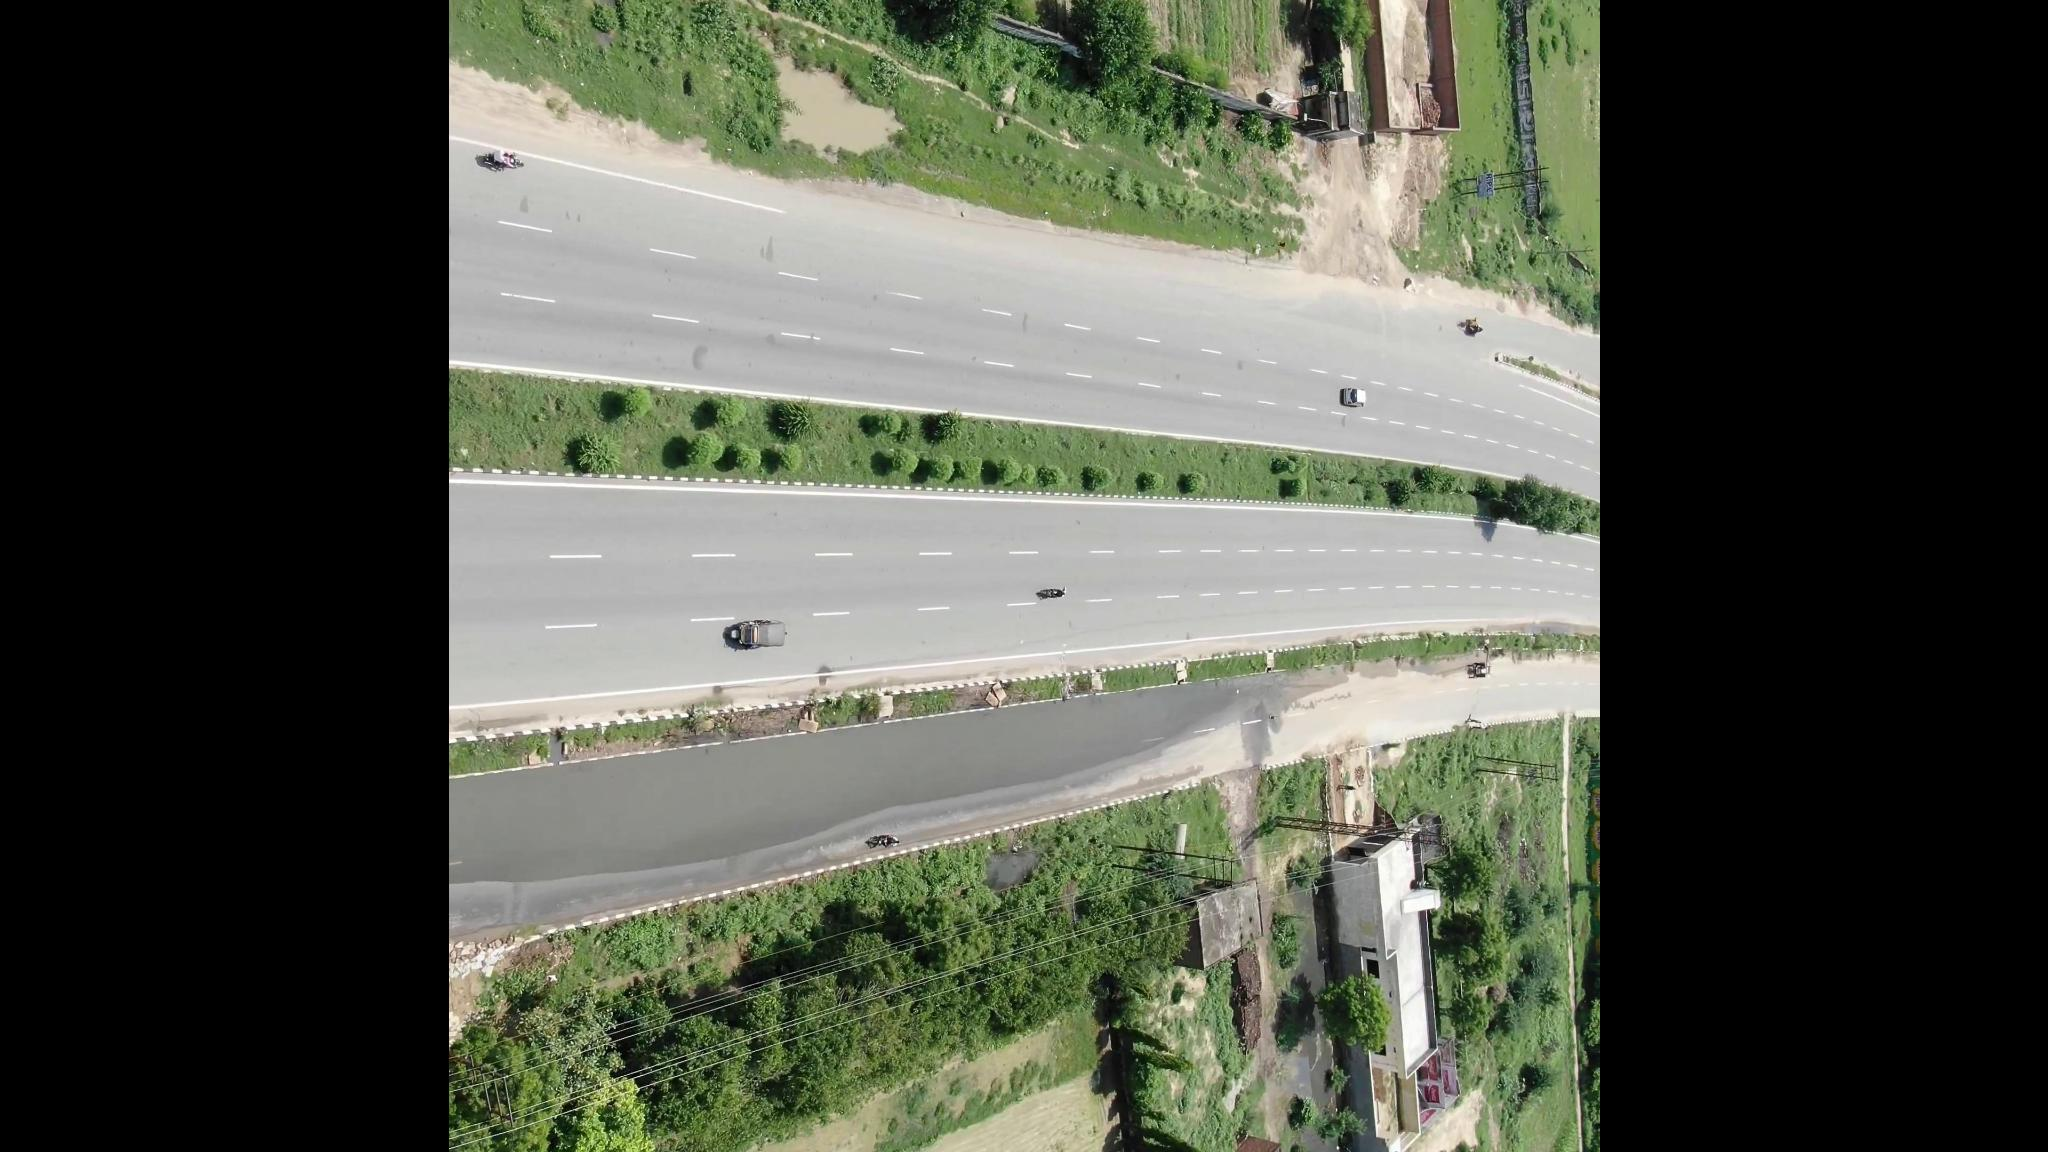Waterlogging: (492, 703, 1191, 866)
